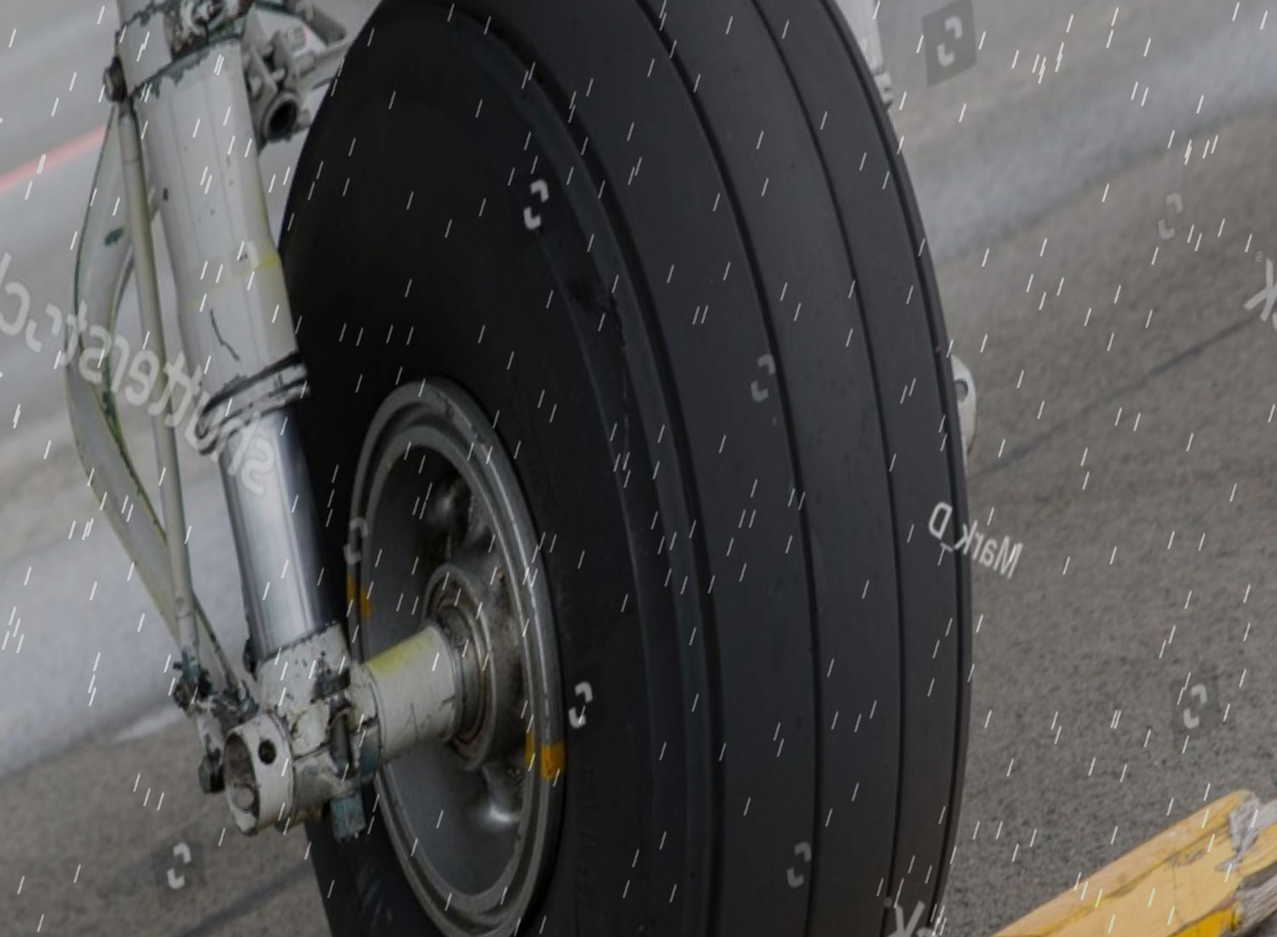wheel: (152, 0, 1161, 937)
